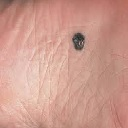Melanoma: (70, 32, 87, 51)
